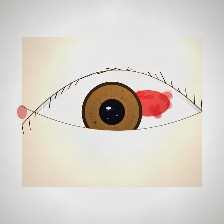hemorrhage_spot: (117, 79, 178, 128)
